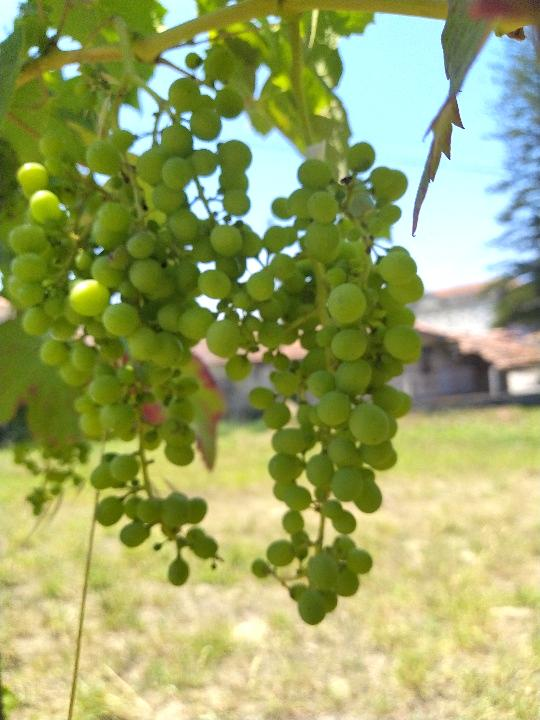grape: (3, 46, 255, 587), (225, 139, 429, 628)
